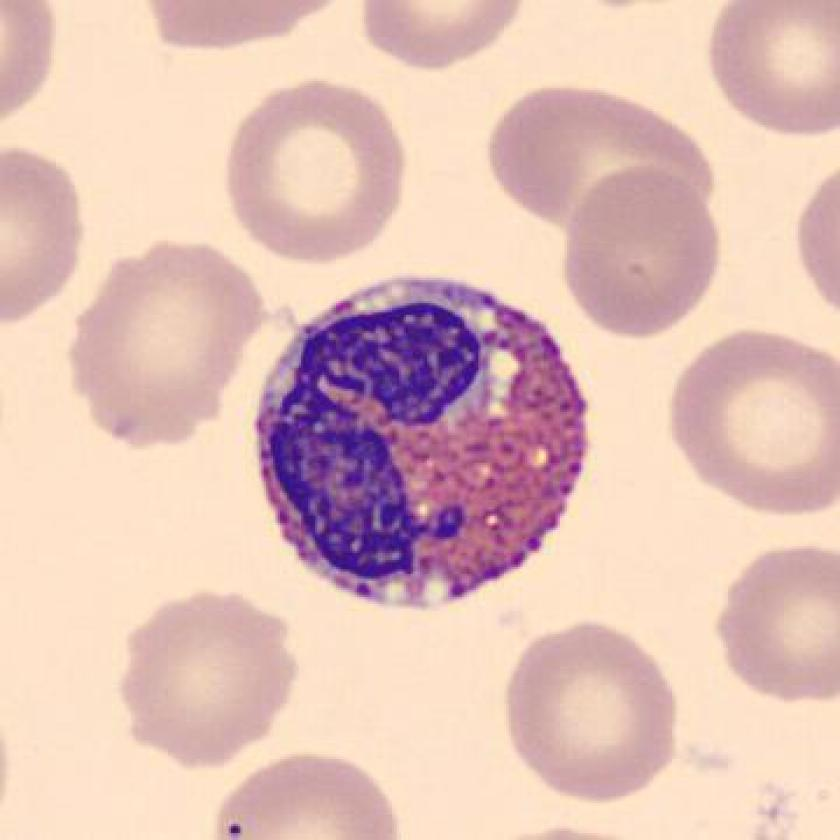eosinophil: (239, 262, 603, 626)
